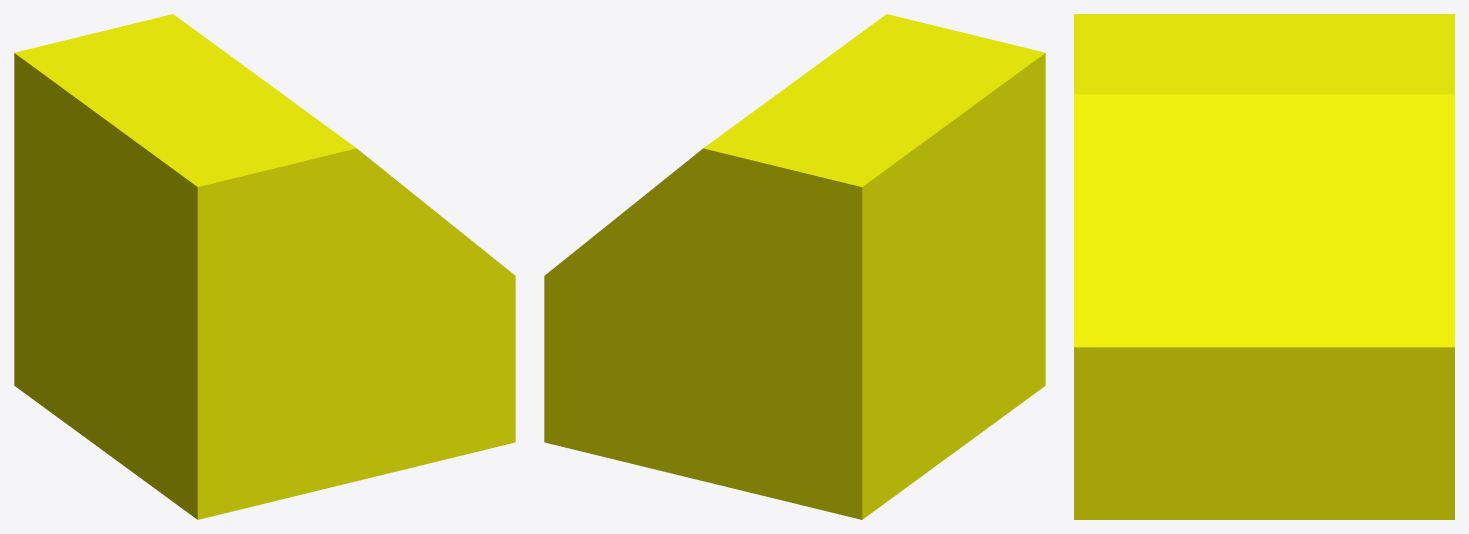
The model's file is kaykit-primitive-slope-half.glb.
3 views of the same model, side by side, from view 1: azimuth 30°, elevation 25°; view 2: azimuth 150°, elevation 25°; view 3: azimuth 270°, elevation 25° (orthographic). The views are drawn at different scales.
Visible parts, largest first — view 1: Primitive_Slope_Half; view 2: Primitive_Slope_Half; view 3: Primitive_Slope_Half.
Boxes of the visible parts, left/top/right/bottom form: Primitive_Slope_Half: left=14, top=14, right=515, bottom=519; Primitive_Slope_Half: left=544, top=14, right=1045, bottom=519; Primitive_Slope_Half: left=1074, top=14, right=1454, bottom=519.
Bounding box in the file's own units: 4 × 4 × 4.
